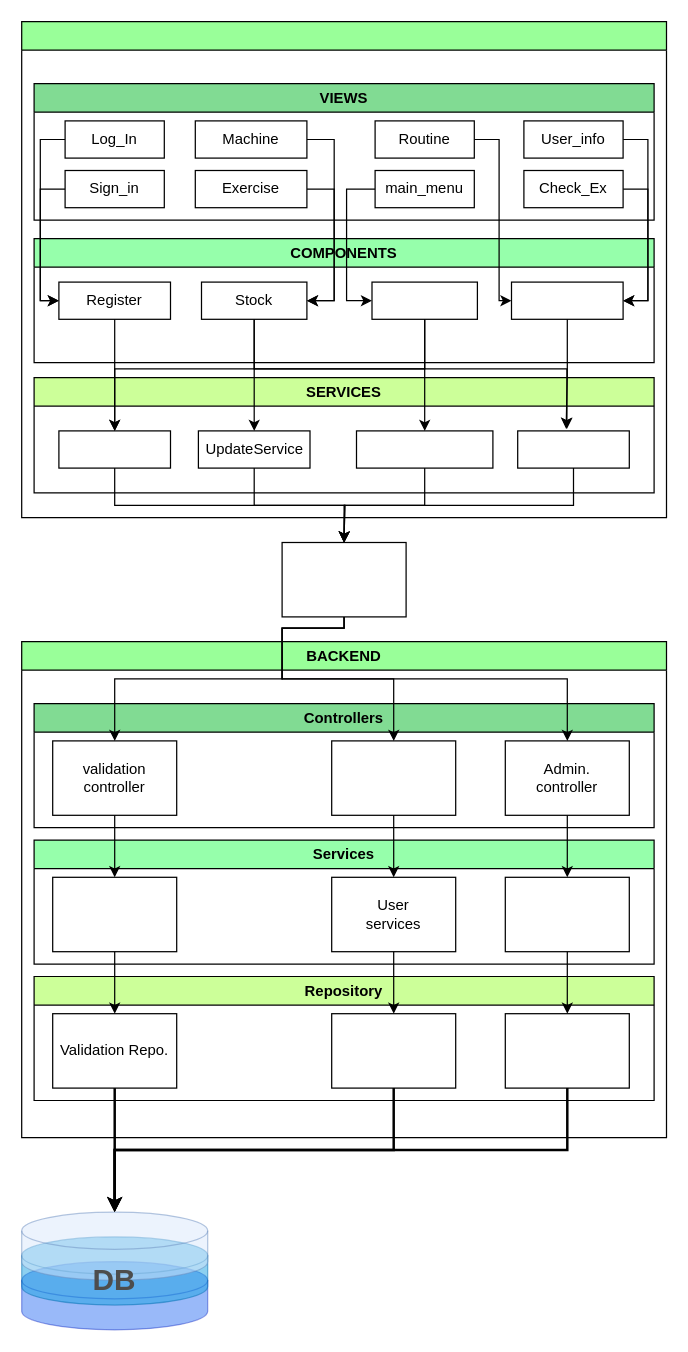
Some shapes in this 688 by 1352 pixel diagram are drawn without their labels. Each missing label, with the centre of its shape:
AddService: the point at 114,449
Admin. Repo.: the point at 566,1050
Admin. services: the point at 566,914
API: the point at 343,579
Details: the point at 566,300
FRONTEND: the point at 343,269
Menu: the point at 424,300
RemoveService: the point at 424,449
User Controller: the point at 393,777
User Repo.: the point at 393,1050
validation services: the point at 114,914
WatchService: the point at 572,449
